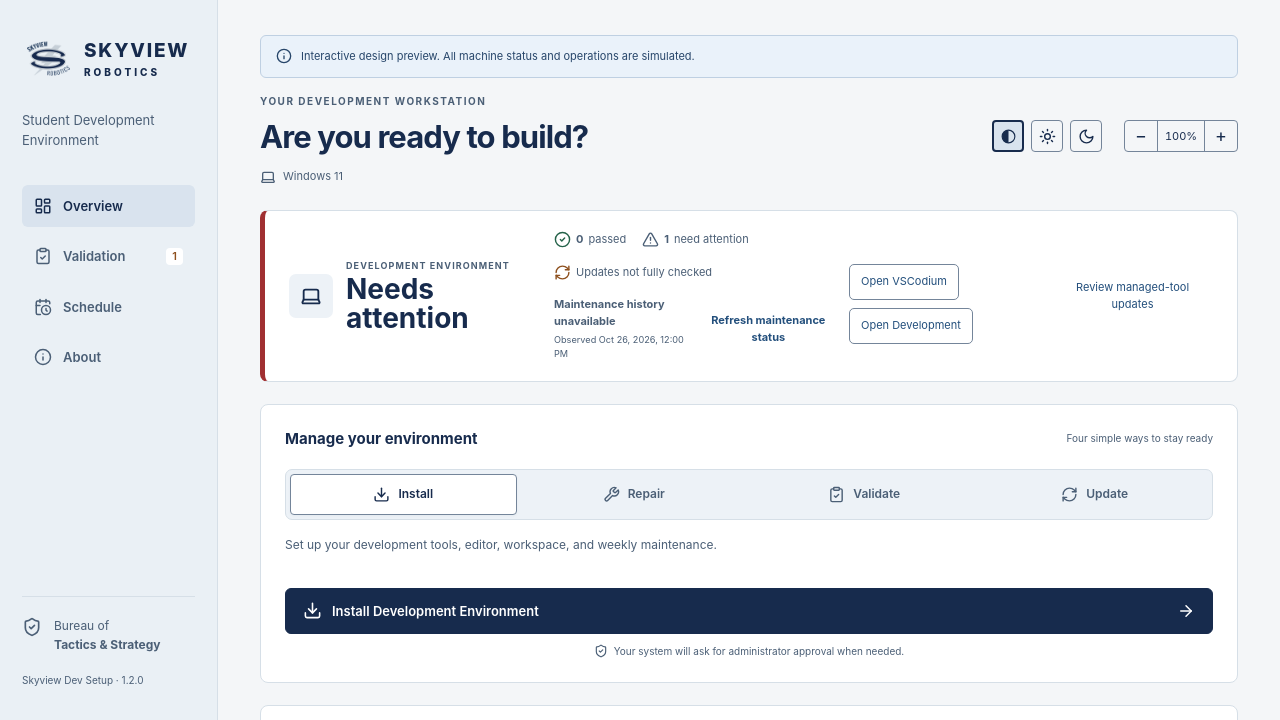
Test case: keeps command diagnostics ending in not found on the mentor path
Expected: the heading "Needs attention" is shown, left=346, top=272, right=469, bottom=335
What coordinates should you click on to do the following:
click the button "Validation 1"
I would click on:
 (108, 256)
Its box is left=22, top=235, right=195, bottom=278.
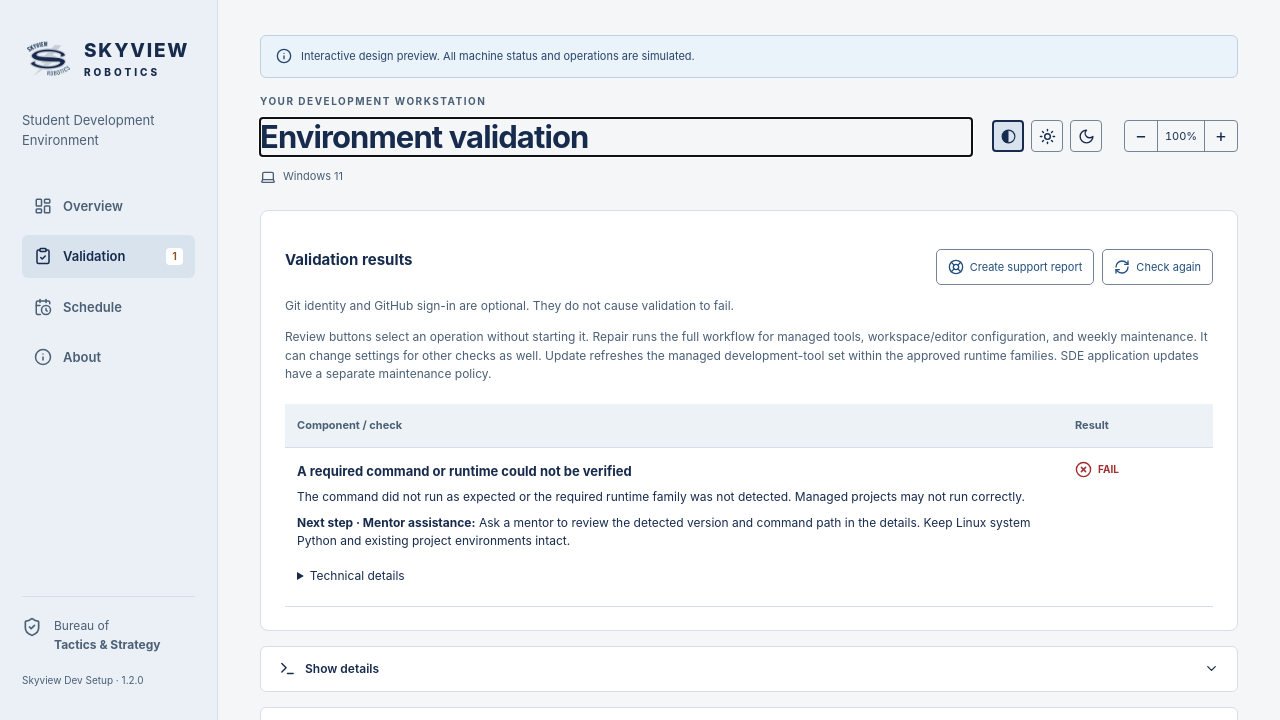
Now the text "A required command or runtime could not be verified" is shown, box left=297, top=463, right=632, bottom=479
